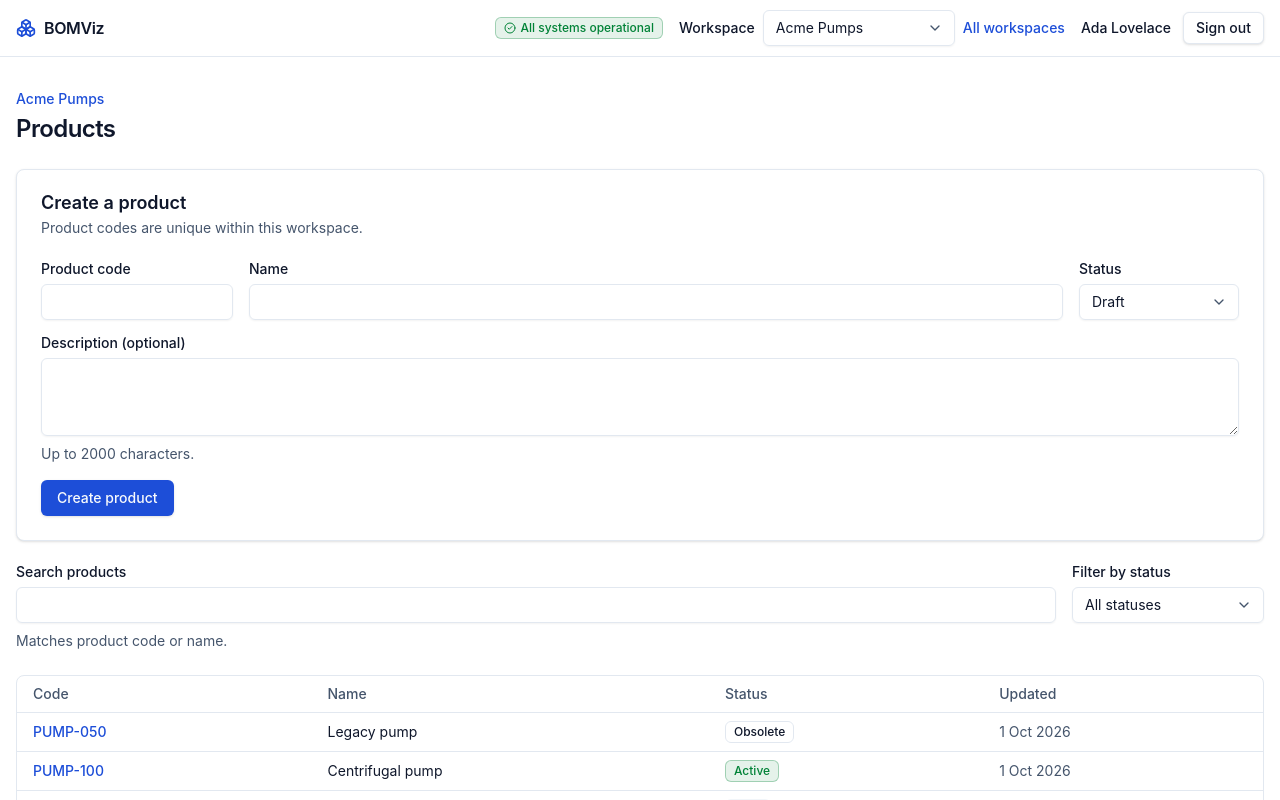
Test: ProductsPage list › keeps the status filter in the URL
Select "Obsolete" in the dropdown labelled "Filter by status": (1168, 605) [1072,587,1264,623]
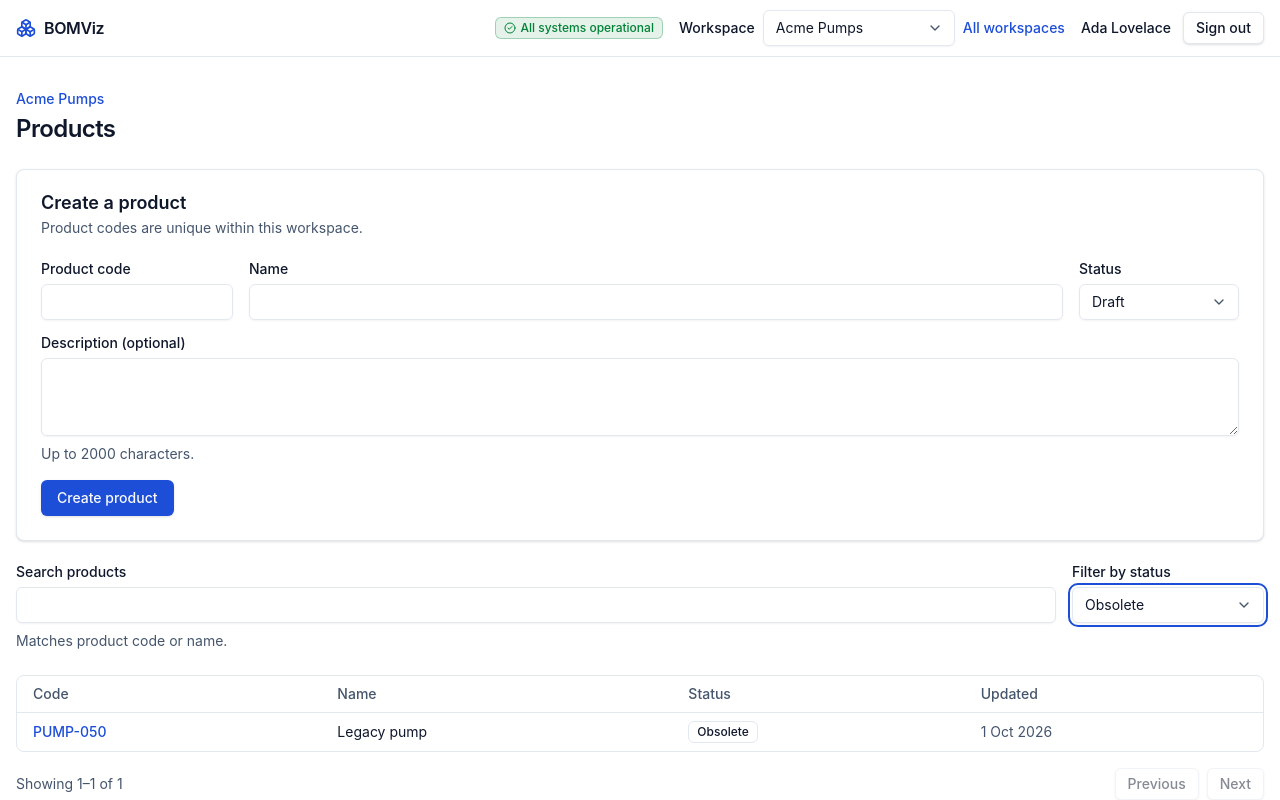
Expected: the link "PUMP-050" is shown, [33,723,107,740]
Now the link "PUMP-100" is gone
Select "All statuses" in the dropdown labelled "Filter by status": (1168, 605) [1072,587,1264,623]
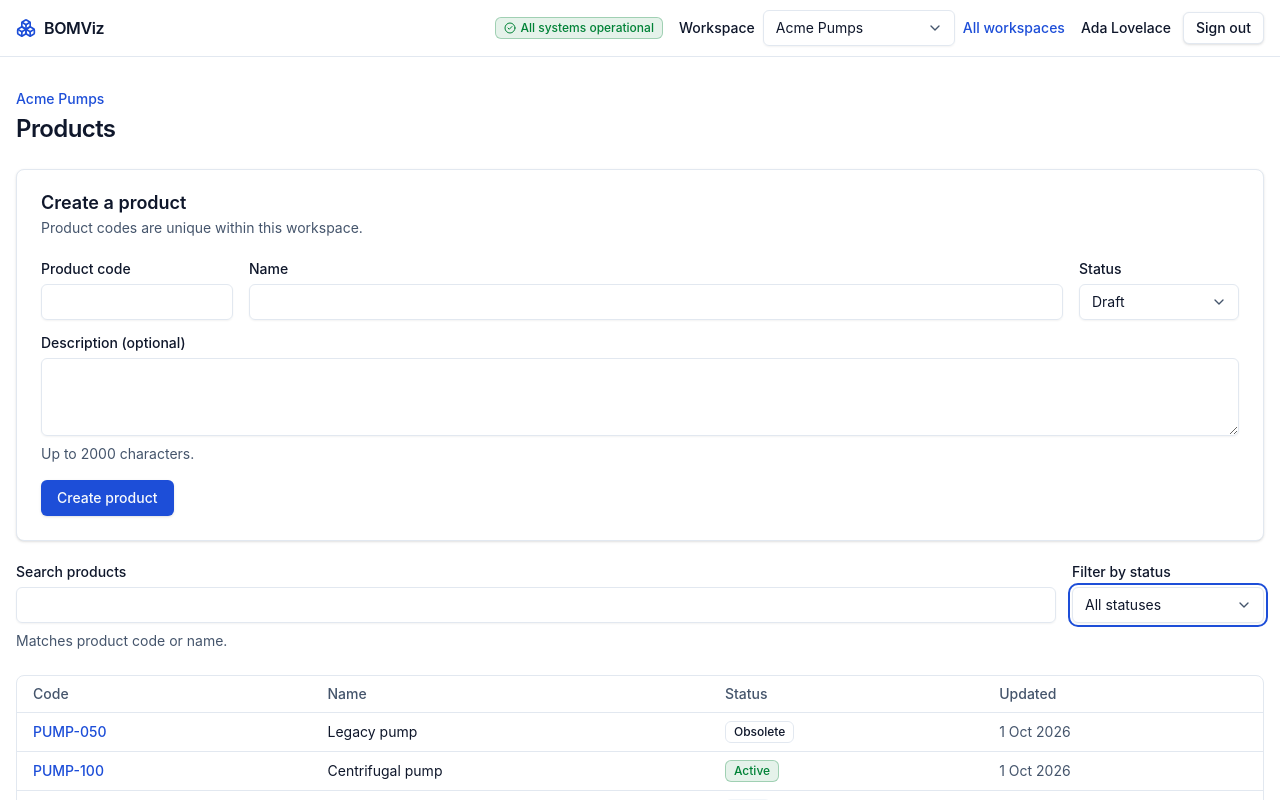
Now the link "PUMP-100" is shown, box [33,762,104,779]
